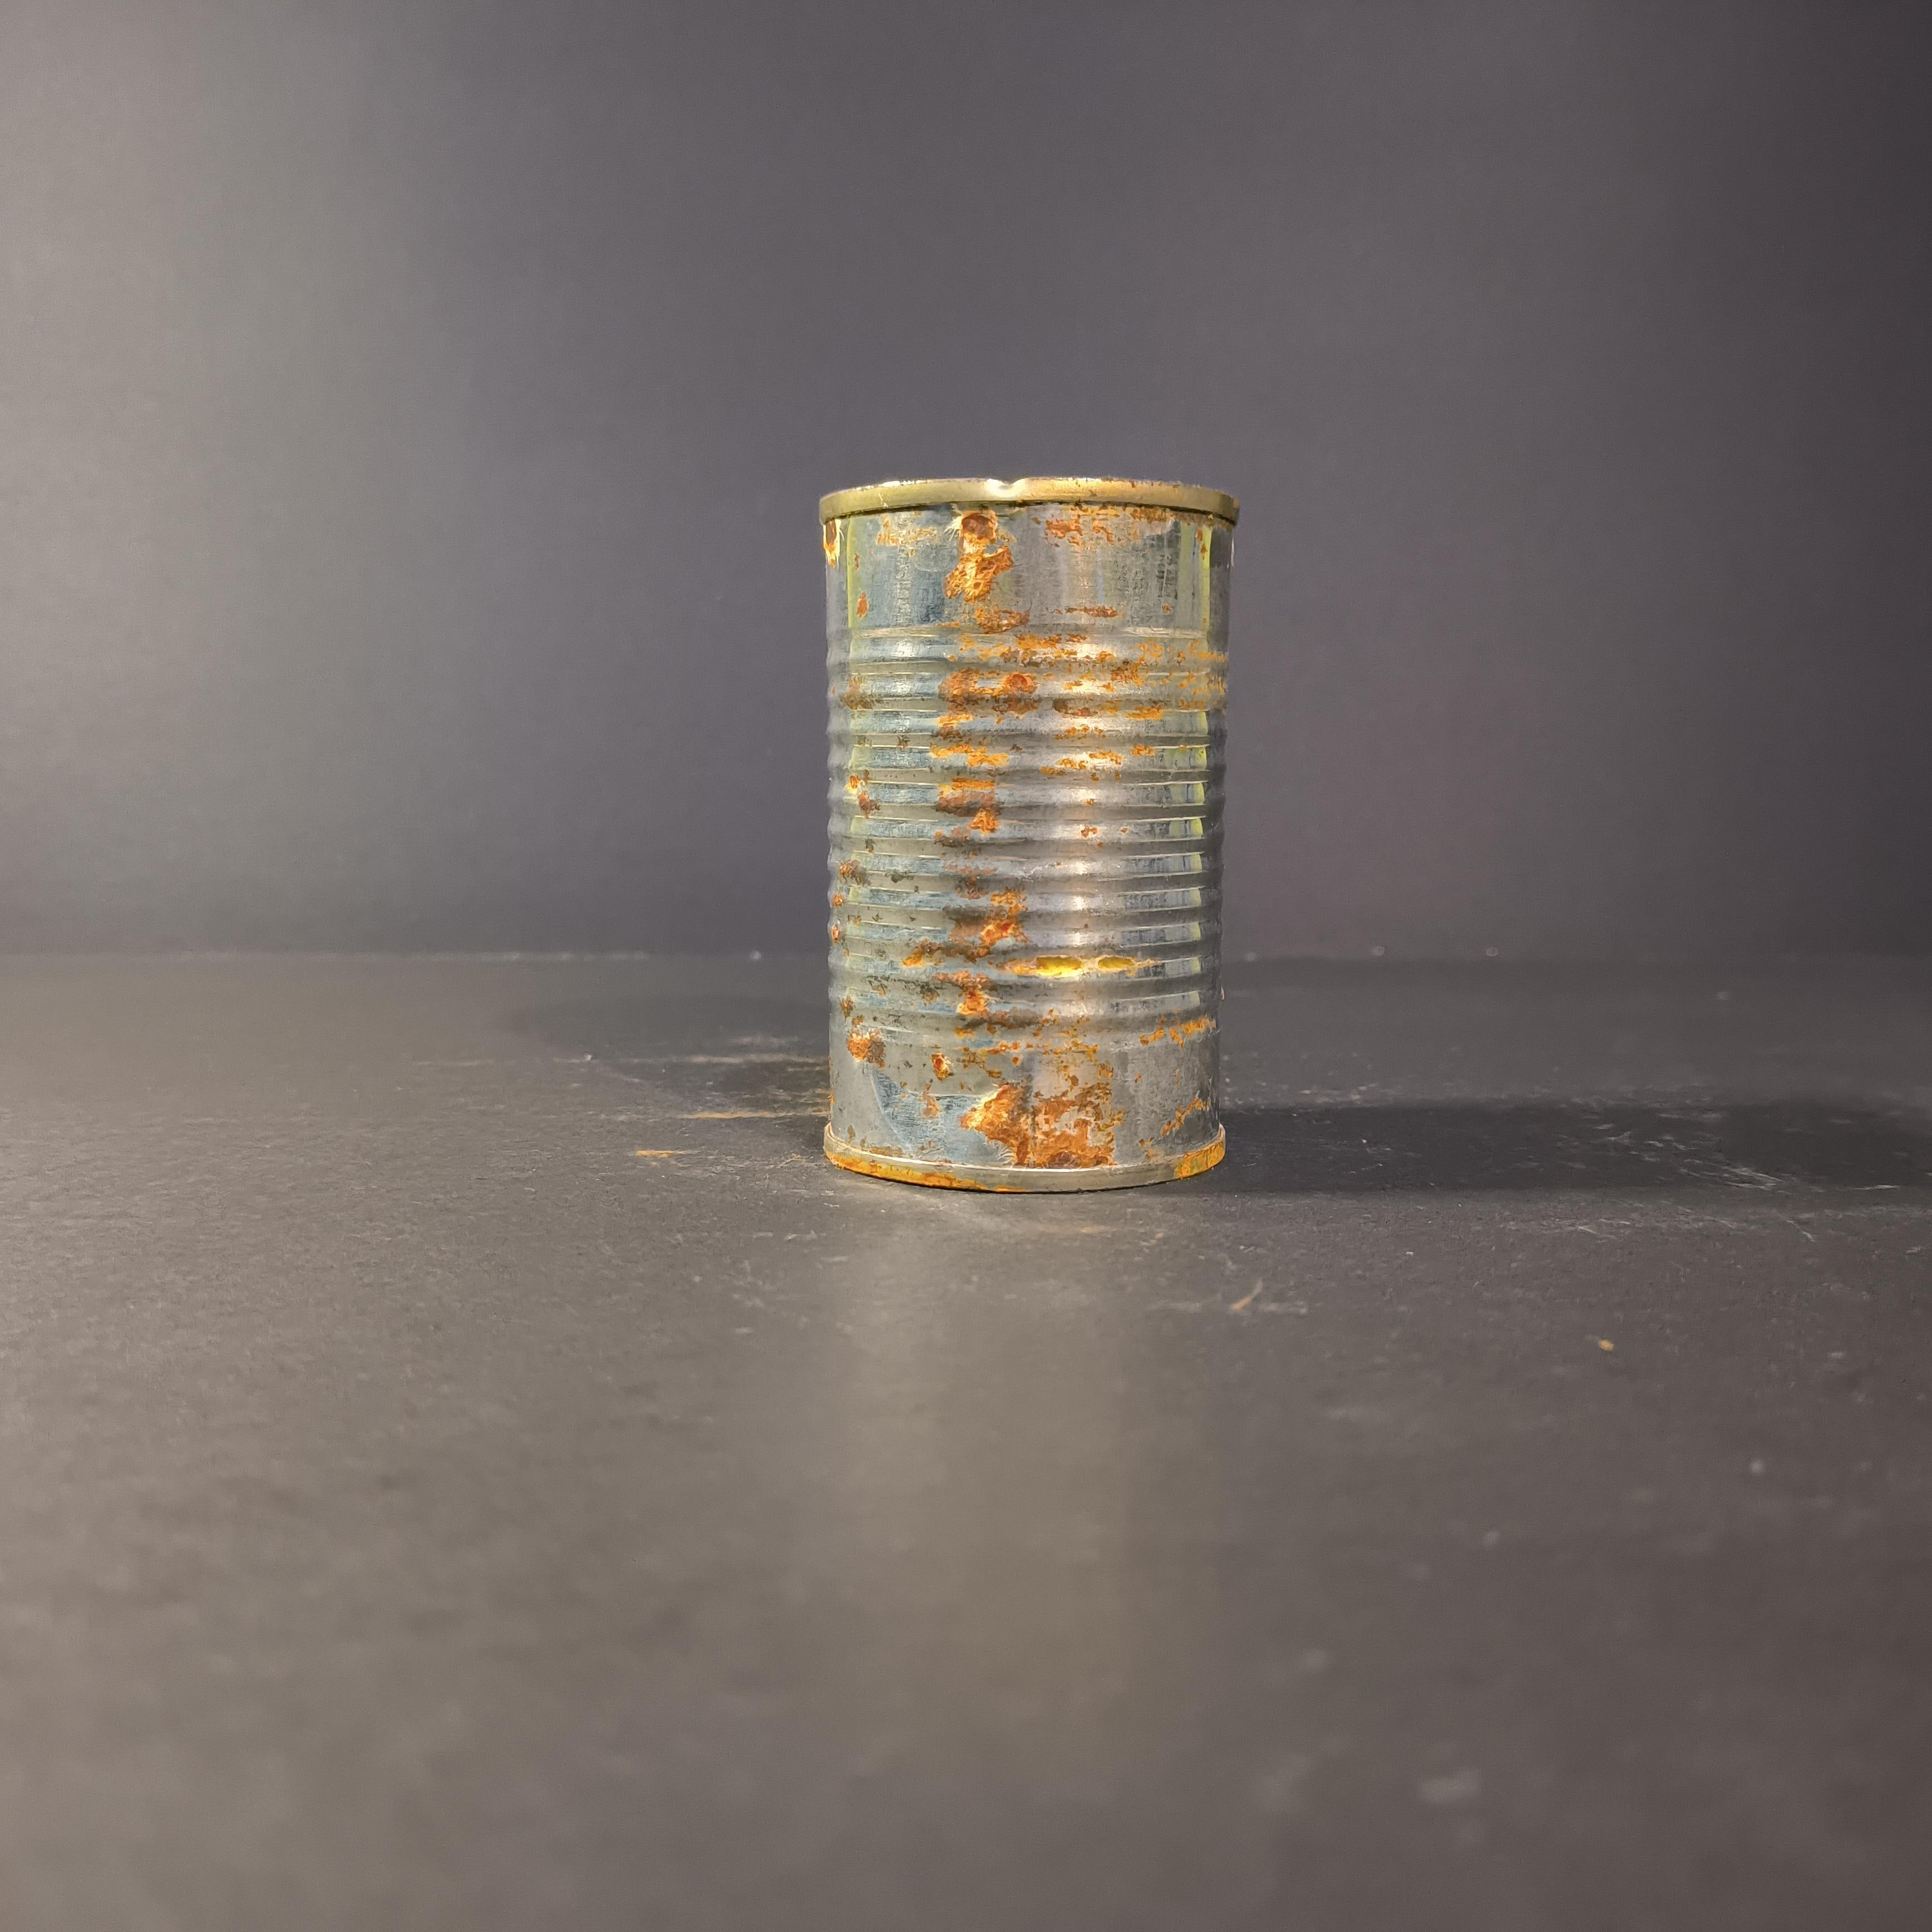Rusted: (796, 448, 1269, 1238)
